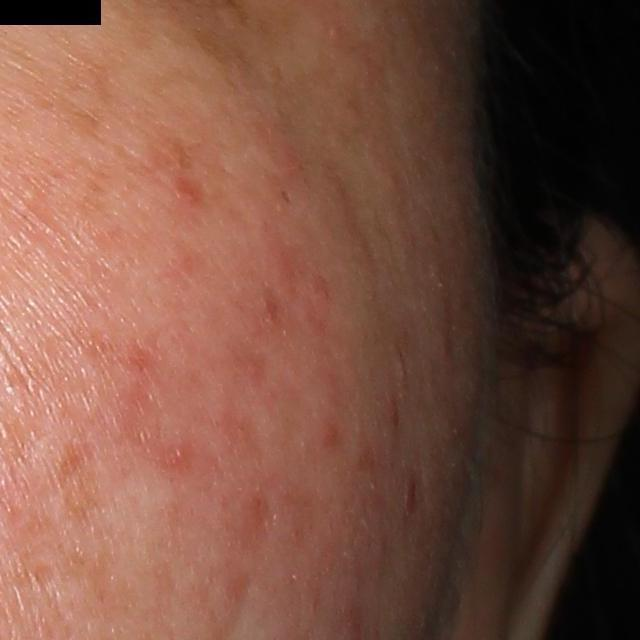melasma: (56, 38, 114, 102), (55, 97, 109, 140)
papule: (170, 176, 198, 205), (384, 395, 402, 430), (322, 425, 342, 446)
